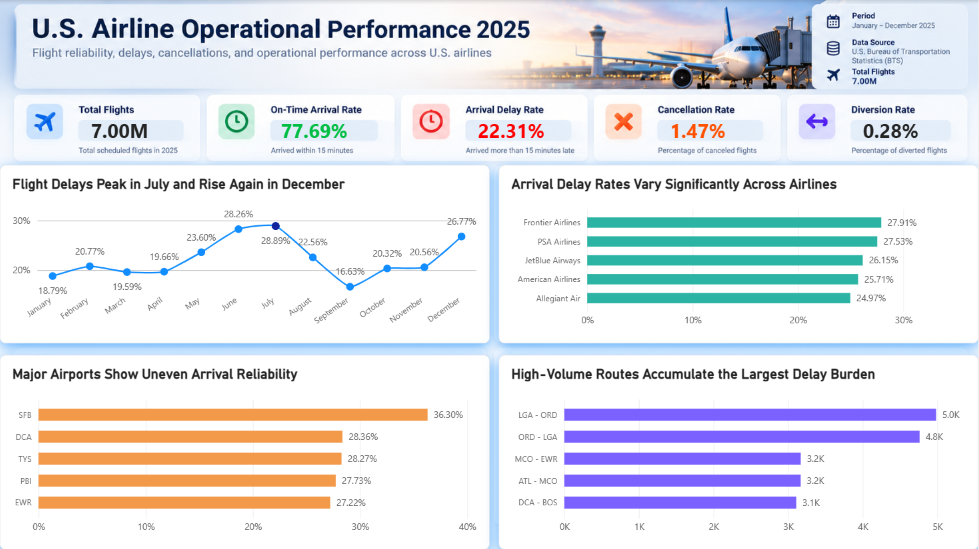

The dashboard page shown, as its layout file describes it:
{"tool":"powerbi","page":{"name":"Operational Overview","canvas":[1280,720],"ordinal":0},"visuals":[{"type":"cardVisual","fields":{"Data":["vw_monthly_performance.Total Flights"]},"box":[103,156,151.4,28.8],"z":0},{"type":"cardVisual","fields":{"Data":["vw_monthly_performance.On-Time Arrival Rate"]},"box":[351.3,156,151.4,28.8],"z":1000},{"type":"cardVisual","fields":{"Data":["vw_monthly_performance.Arrival Delay Rate"]},"box":[608.7,156,151.4,28.8],"z":2000},{"type":"cardVisual","fields":{"Data":["vw_monthly_performance.Cancellation Rate"]},"box":[860.1,156,151.4,28.8],"z":3000},{"type":"cardVisual","fields":{"Data":["vw_monthly_performance.Diversion Rate"]},"box":[1112.9,156,151.4,28.8],"z":4000},{"type":"lineChart","title":"Flight Delays Peak in July and Rise Again in December","fields":{"Category":["vw_monthly_performance.month_name"],"Y":["vw_monthly_performance.Arrival Delay Rate","vw_monthly_performance.July Peak"]},"box":[0,216.3,640.6,233.1],"z":5000},{"type":"clusteredBarChart","title":"Arrival Delay Rates Vary Significantly Across Airlines","fields":{"Category":["vw_airline_performance.airline_name"],"Y":["vw_airline_performance.Airline Arrival Delay Rate"]},"box":[652.3,216.3,627.1,233.1],"z":6000},{"type":"clusteredBarChart","title":"Major Airports Show Uneven Arrival Reliability","fields":{"Category":["vw_destination_airport_performance.airport_code"],"Y":["vw_destination_airport_performance.Airport Arrival Delay Rate"]},"box":[0,464.5,640.6,254.9],"z":7000},{"type":"clusteredBarChart","title":"High-Volume Routes Accumulate the Largest Delay Burden","fields":{"Category":["vw_route_performance.route"],"Y":["vw_route_performance.Route Delay Burden Hours"]},"box":[652.3,464.5,627.1,254.9],"z":8000}]}

Visuals, with their boxes in screenshot pixels (x1, y1, x2, y2), scaled from the page's 1280x720 canvas onto the 979x549 screenshot:
cardVisual - vw_monthly_performance.Total Flights: Rect(79, 119, 195, 141)
cardVisual - vw_monthly_performance.On-Time Arrival Rate: Rect(269, 119, 384, 141)
cardVisual - vw_monthly_performance.Arrival Delay Rate: Rect(466, 119, 581, 141)
cardVisual - vw_monthly_performance.Cancellation Rate: Rect(658, 119, 774, 141)
cardVisual - vw_monthly_performance.Diversion Rate: Rect(851, 119, 967, 141)
"Flight Delays Peak in July and Rise Again in December" lineChart: Rect(0, 165, 490, 343)
"Arrival Delay Rates Vary Significantly Across Airlines" clusteredBarChart: Rect(499, 165, 978, 343)
"Major Airports Show Uneven Arrival Reliability" clusteredBarChart: Rect(0, 354, 490, 548)
"High-Volume Routes Accumulate the Largest Delay Burden" clusteredBarChart: Rect(499, 354, 978, 548)
